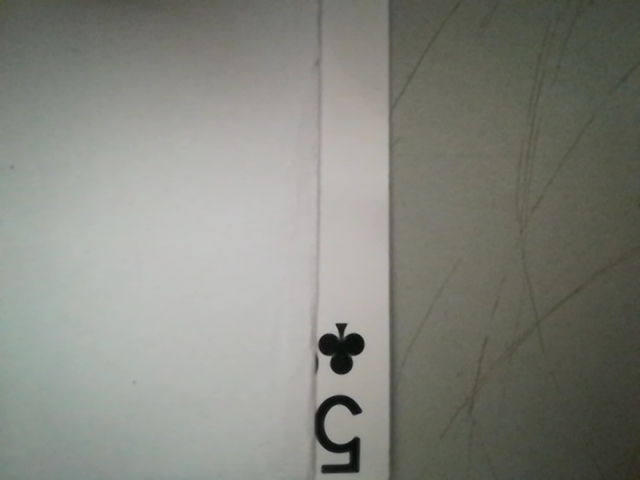mh 5: (304, 320, 386, 473)
